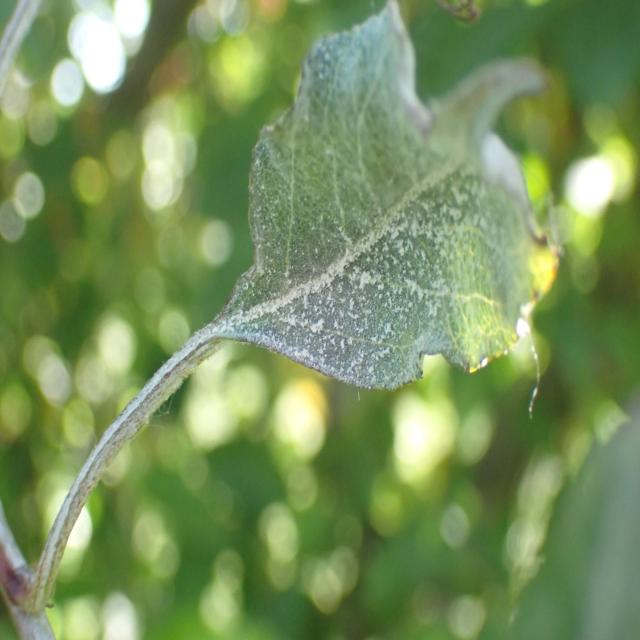Powdery_mildew: (207, 3, 588, 414)
